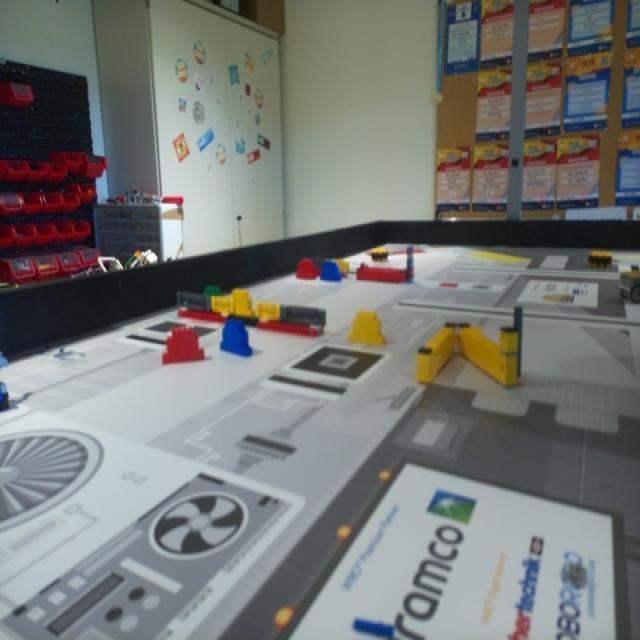blau: (218, 318, 258, 366), (317, 262, 343, 283)
gruen: (197, 277, 227, 300)
rot: (158, 322, 208, 368), (293, 258, 318, 282)
yellow: (342, 306, 390, 347), (232, 286, 256, 308)
